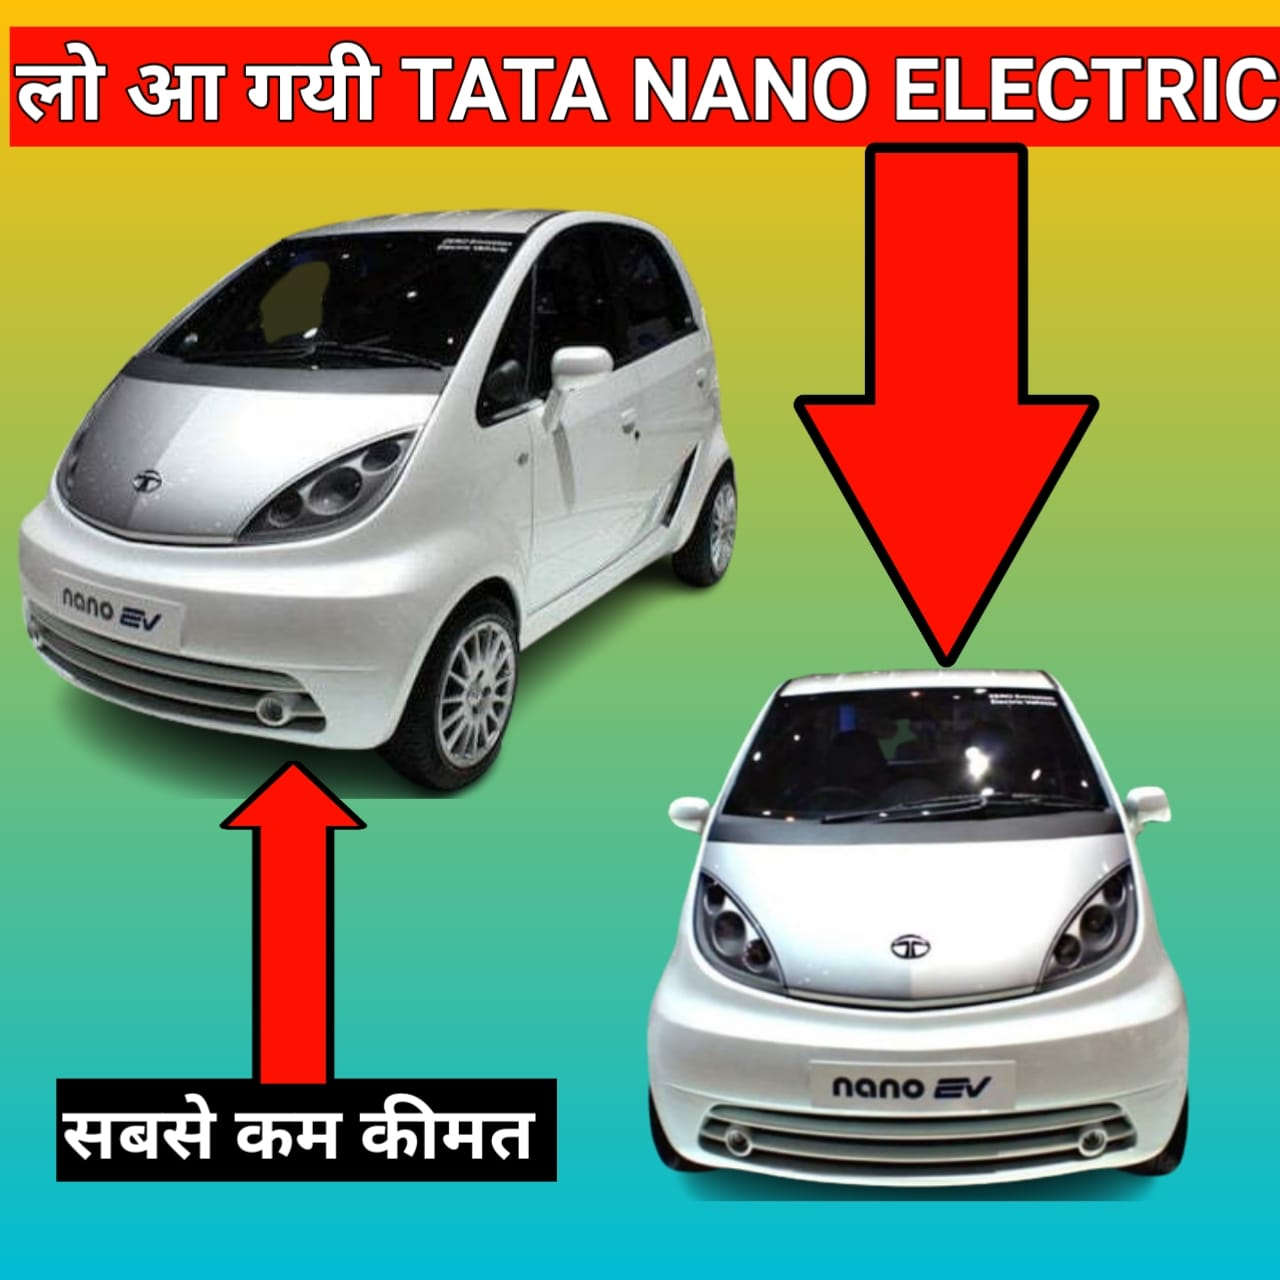Nano: (19, 203, 741, 794), (640, 666, 1189, 1203)
